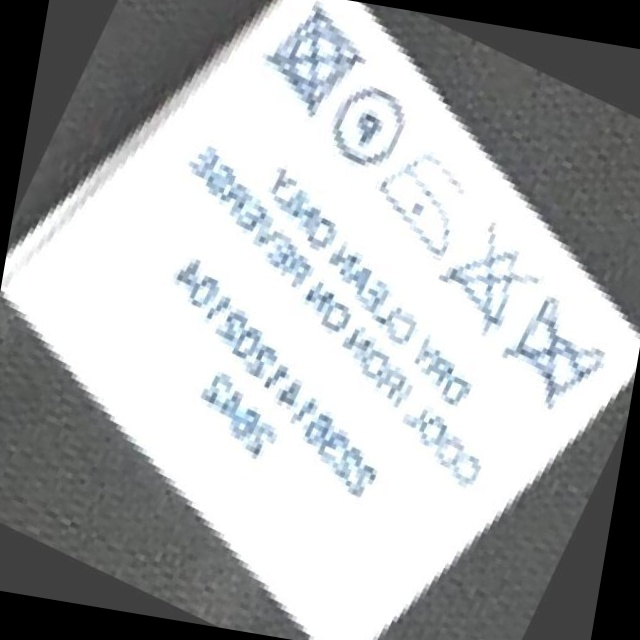DN_bleach: (437, 229, 533, 335)
DN_tumble_dry: (263, 6, 357, 118)
DN_wash: (502, 291, 610, 403)
dry_clean_any_solvent_except_trichloroethylene: (327, 80, 408, 174)
iron_low: (365, 150, 470, 261)
